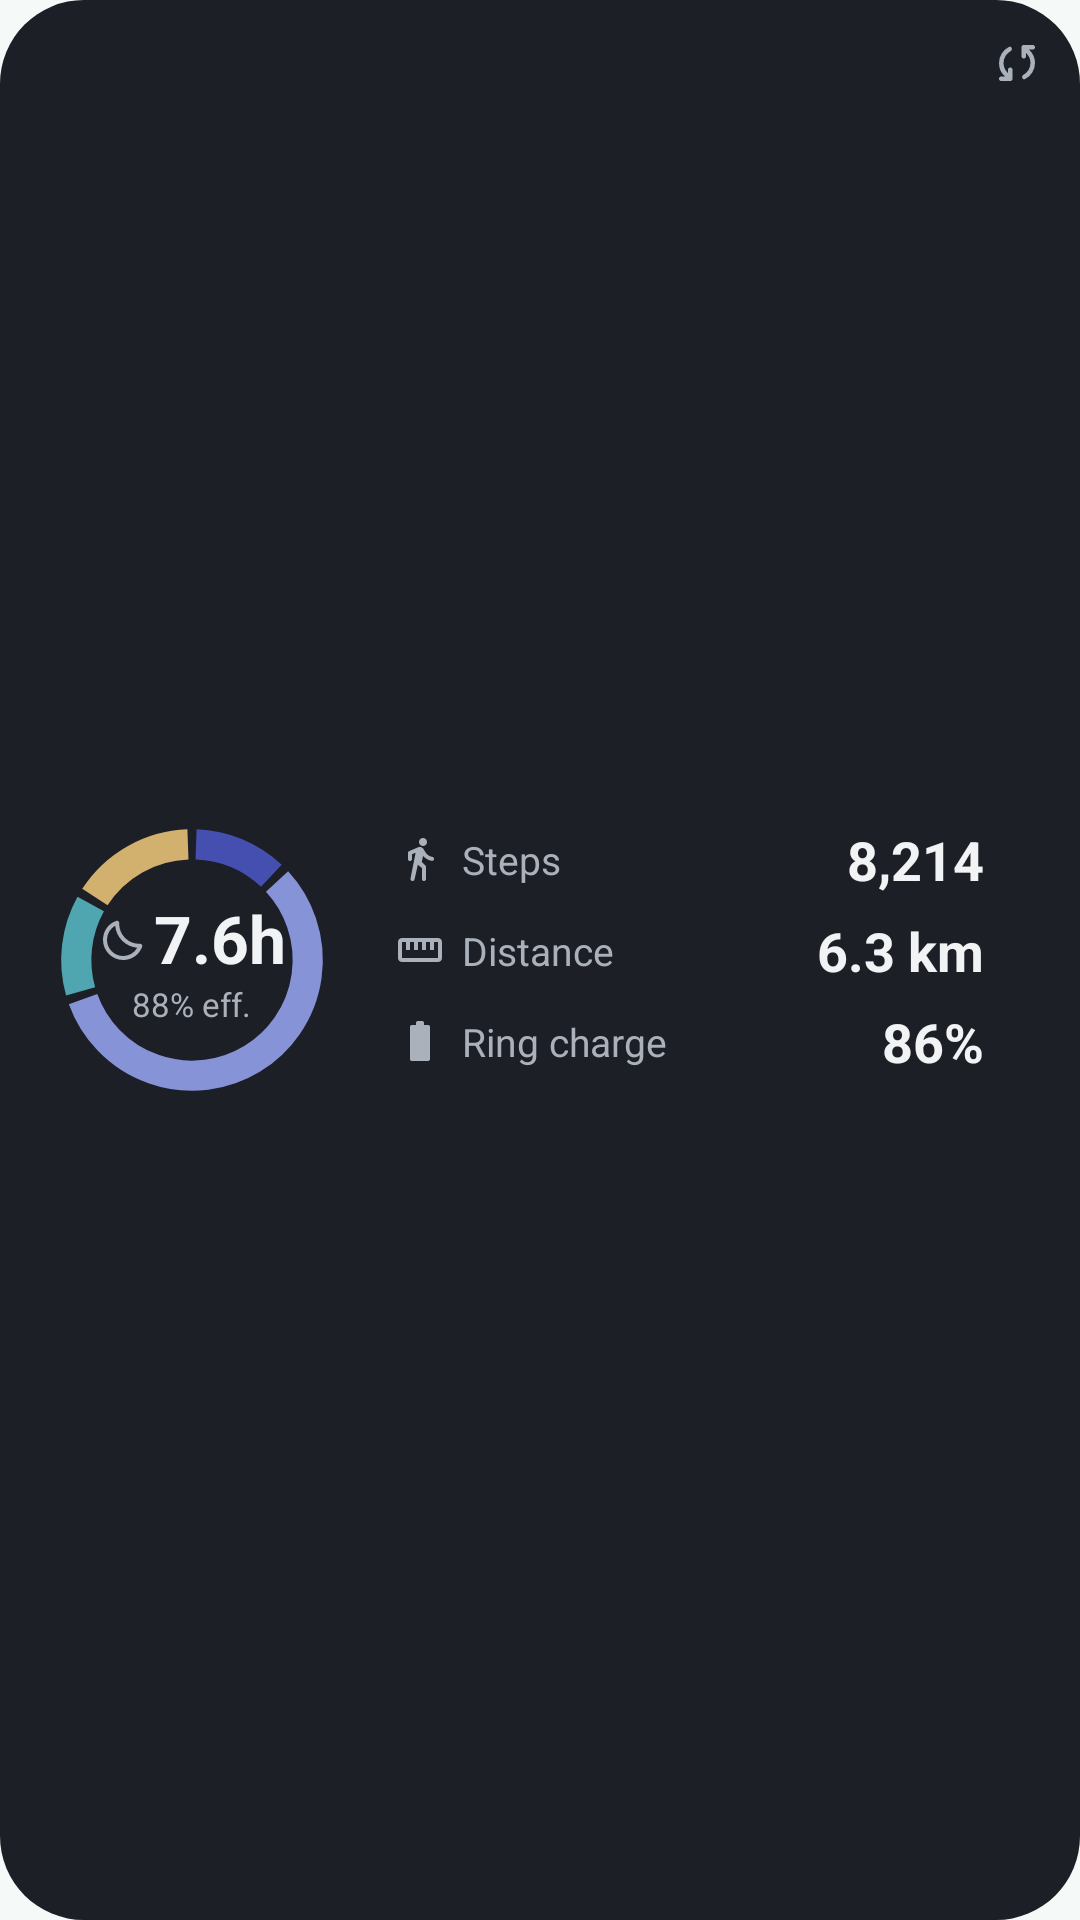

Screen size 1080*1920. Icon name, then its center in pixels as [x,y]:
sym battery full: [420,1041]
sym directions walk: [421,859]
sym sync: [1017,63]
